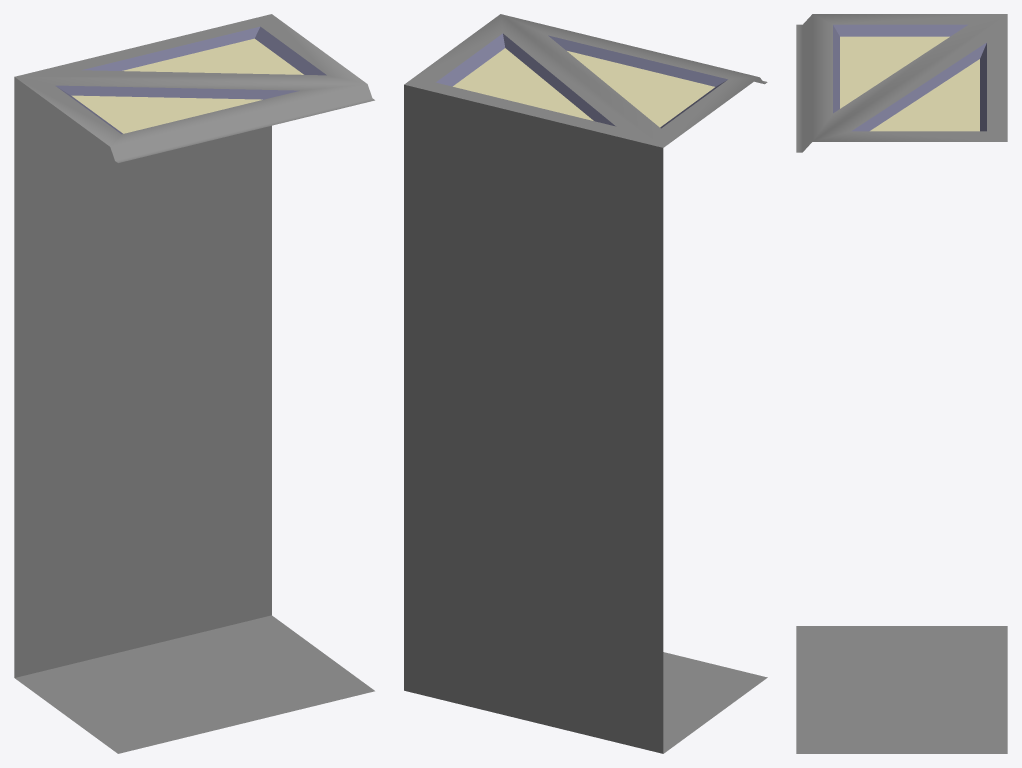
Rendered from hangarMiddle2.fbx.
3 views of the same model, side by side, from view 1: azimuth 30°, elevation 25°; view 2: azimuth 150°, elevation 25°; view 3: azimuth 270°, elevation 25° (orthographic).
Visible parts, largest first — view 1: Cube.009; view 2: Cube.009; view 3: Cube.009.
Part boxes in pixels (x1,y1,x2,y2): Cube.009: (14, 14, 374, 753); Cube.009: (404, 14, 767, 753); Cube.009: (796, 14, 1007, 753).
Bounding box in the file's own units: 538 × 1200 × 375.
